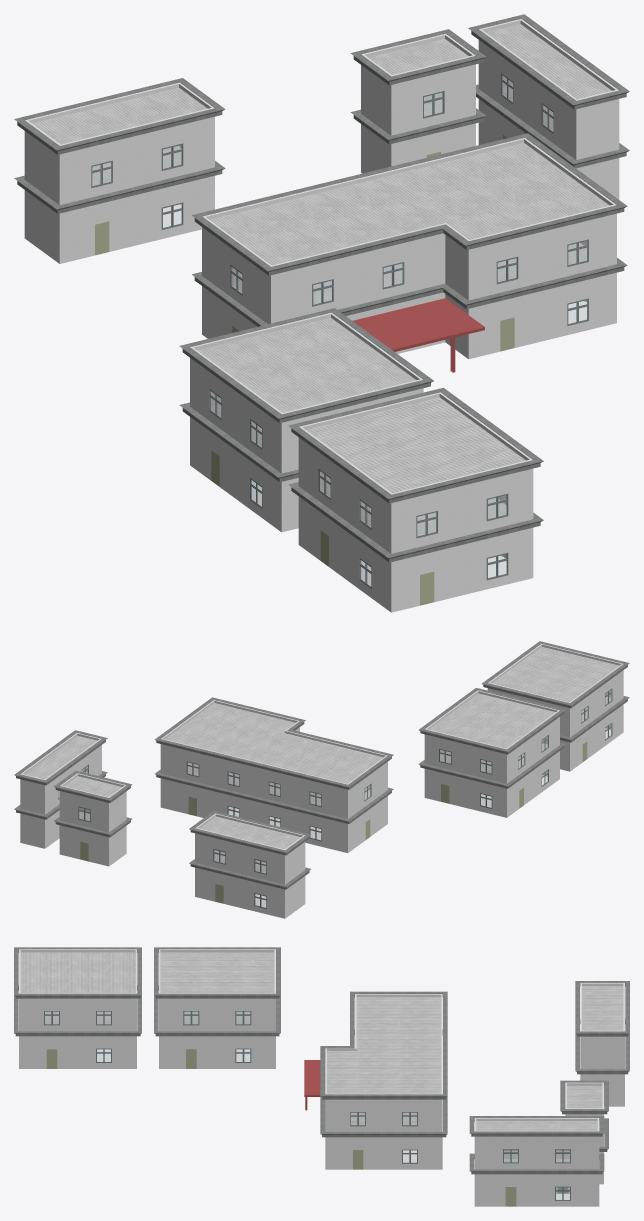
The model's file is Plan(REF)_levels(2)_window(W Double Sash 23_5)_wall(WAFRA WALL)_quoin(N)_cornice(Y).fbx.
The picture shows the model from 3 angles, top to bottom: view 1: azimuth 30°, elevation 25°; view 2: azimuth 150°, elevation 25°; view 3: azimuth 270°, elevation 25°; orthographic projection. The views are drawn at different scales.
Visible parts, largest first — view 1: WAFRA Stucco - White Rough 23, WAFRA Roof - Corrugated Sheet Matte 23, Concrete - Structural, Metal - Finish - Aluminum, Glass - Clear, WAFRA Roof - Standing Seam Red Coat 23, Color - Beige; view 2: WAFRA Stucco - White Rough 23, WAFRA Roof - Corrugated Sheet Matte 23, Concrete - Structural, Metal - Finish - Aluminum, Glass - Clear, Color - Beige; view 3: WAFRA Stucco - White Rough 23, WAFRA Roof - Corrugated Sheet Matte 23, Concrete - Structural, Metal - Finish - Aluminum, Glass - Clear, Color - Beige, WAFRA Roof - Standing Seam Red Coat 23.
Part boxes in pixels (bbox=[...]): WAFRA Stucco - White Rough 23: bbox=[24, 19, 619, 612]; WAFRA Roof - Corrugated Sheet Matte 23: bbox=[32, 24, 611, 535]; Concrete - Structural: bbox=[14, 14, 629, 562]; Metal - Finish - Aluminum: bbox=[91, 73, 588, 588]; Glass - Clear: bbox=[92, 76, 586, 585]; WAFRA Roof - Standing Seam Red Coat 23: bbox=[353, 298, 484, 372]; Color - Beige: bbox=[95, 135, 586, 605]; WAFRA Stucco - White Rough 23: bbox=[20, 644, 623, 918]; WAFRA Roof - Corrugated Sheet Matte 23: bbox=[24, 647, 618, 873]; Concrete - Structural: bbox=[14, 641, 629, 889]; Metal - Finish - Aluminum: bbox=[58, 688, 612, 908]; Glass - Clear: bbox=[58, 690, 611, 907]; Color - Beige: bbox=[59, 741, 587, 903]; WAFRA Stucco - White Rough 23: bbox=[19, 949, 624, 1206]; WAFRA Roof - Corrugated Sheet Matte 23: bbox=[20, 952, 623, 1161]; Concrete - Structural: bbox=[14, 947, 629, 1174]; Metal - Finish - Aluminum: bbox=[44, 1011, 570, 1200]; Glass - Clear: bbox=[45, 1012, 569, 1199]; Color - Beige: bbox=[46, 1049, 568, 1206]; WAFRA Roof - Standing Seam Red Coat 23: bbox=[304, 1060, 320, 1110].
Size of the model in its own units: 4244 by 5930 by 800.
Materials: 12 (5 with a texture image).
